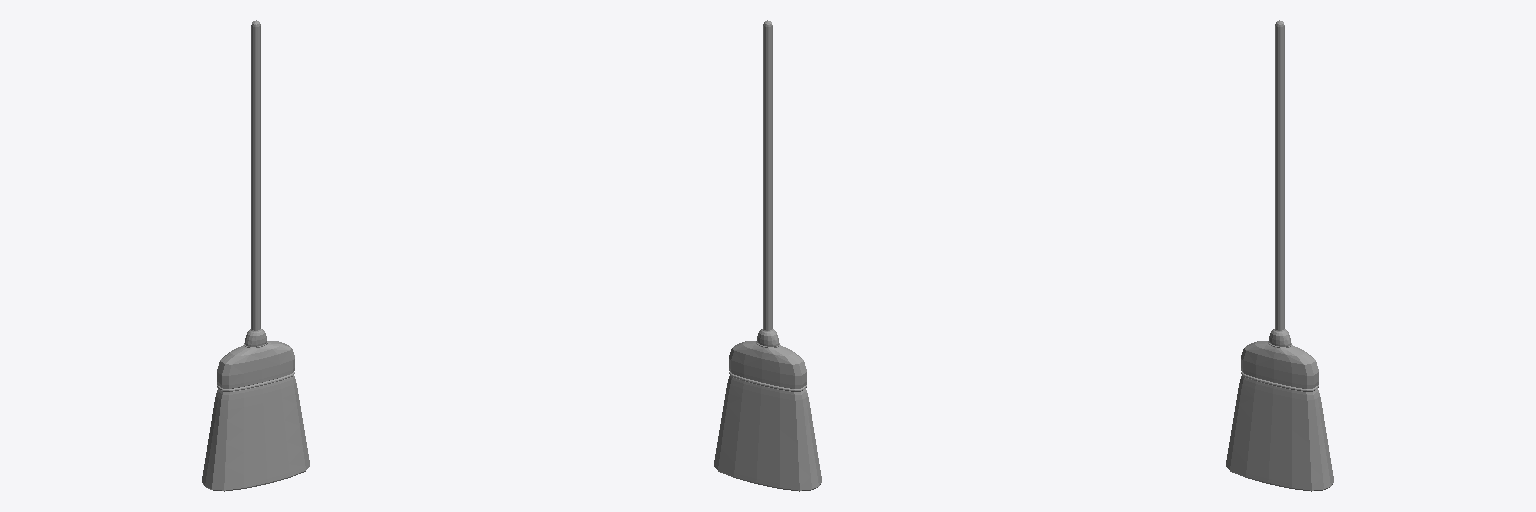
The robot description file, URDF, robot "broom":
<?xml version="1.0" ?>
<robot name="broom">
  <link name="broom">
    <visual>
      <origin rpy="0 0 0" xyz="0 0 -1.1"/>
      <geometry>
          <mesh filename="meshes/broom stl.STL" scale=".1 .1 .1"/>
      </geometry>
      <material name="Grey">
        <color rgba="0.65 0.65 0.65 1"/>
      </material>
    </visual>
    <collision>
      <origin rpy="0 0 0" xyz="0 0 0"/>
      <geometry>
        <cylinder radius="0.02" length="2.1"/>
      </geometry>
    </collision>
    <inertial>
      <density value="50.0"/>
    </inertial>
  </link>
  <link name="broom_bottom">
    <collision>
      <origin rpy="0 0 0" xyz="0 0 0.0"/>
      <geometry>
        <box size="0.5 0.1 0.6"/>
      </geometry>
    </collision>
    <inertial>
      <density value="50.0"/>
    </inertial>
  </link>
  <joint name="broom_joint" type="fixed">
    <origin rpy="0 0 0" xyz="0 0 -0.8"/>
    <parent link="broom"/>
    <child link="broom_bottom"/>
  </joint>

</robot>

--- Facts derived from the render (not from the file) ---
The picture shows the robot from 3 angles, left to right: view 1: azimuth 30°, elevation 25°; view 2: azimuth 150°, elevation 25°; view 3: azimuth 330°, elevation 25°; orthographic projection.
Model broom with 2 links and 1 joints (1 fixed), rooted at broom, posed every joint at zero.
Links seen in each view (by area): view 1: broom; view 2: broom; view 3: broom.
Link boxes in pixels (x1=…): broom: x1=202, y1=20, x2=309, y2=491; broom: x1=714, y1=20, x2=821, y2=491; broom: x1=1226, y1=20, x2=1333, y2=491.
Size in the robot's own frame: 0.5449 by 0.2155 by 2.33 metres.
1 mesh visuals loaded from 1 distinct referenced files (1 binary STL).